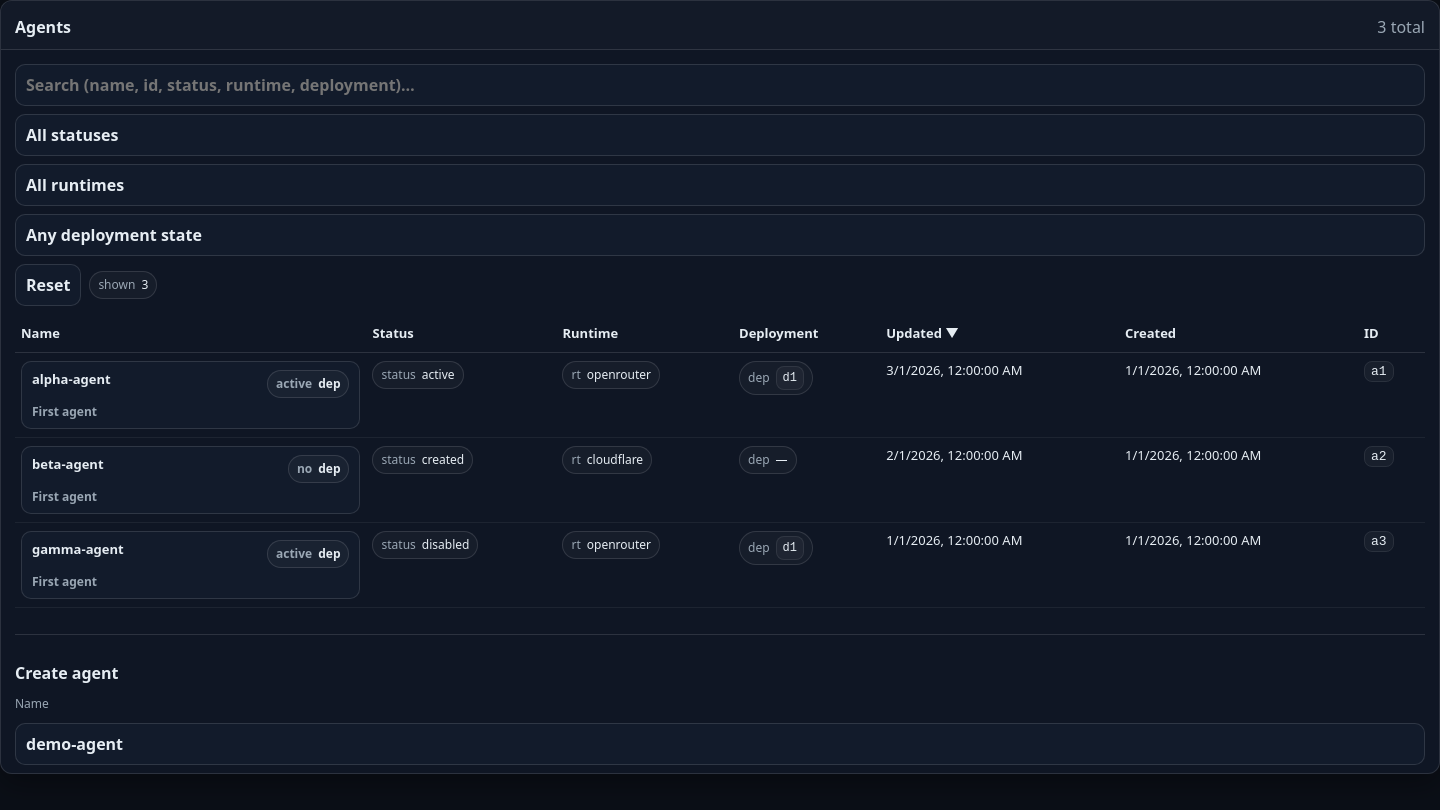
Test: AgentsListPanel › resets all filters when Reset clicked
Note: Apply a filter first
Select "disabled" in the dropdown named "Filter by status": (720, 135) [15,114,1425,156]
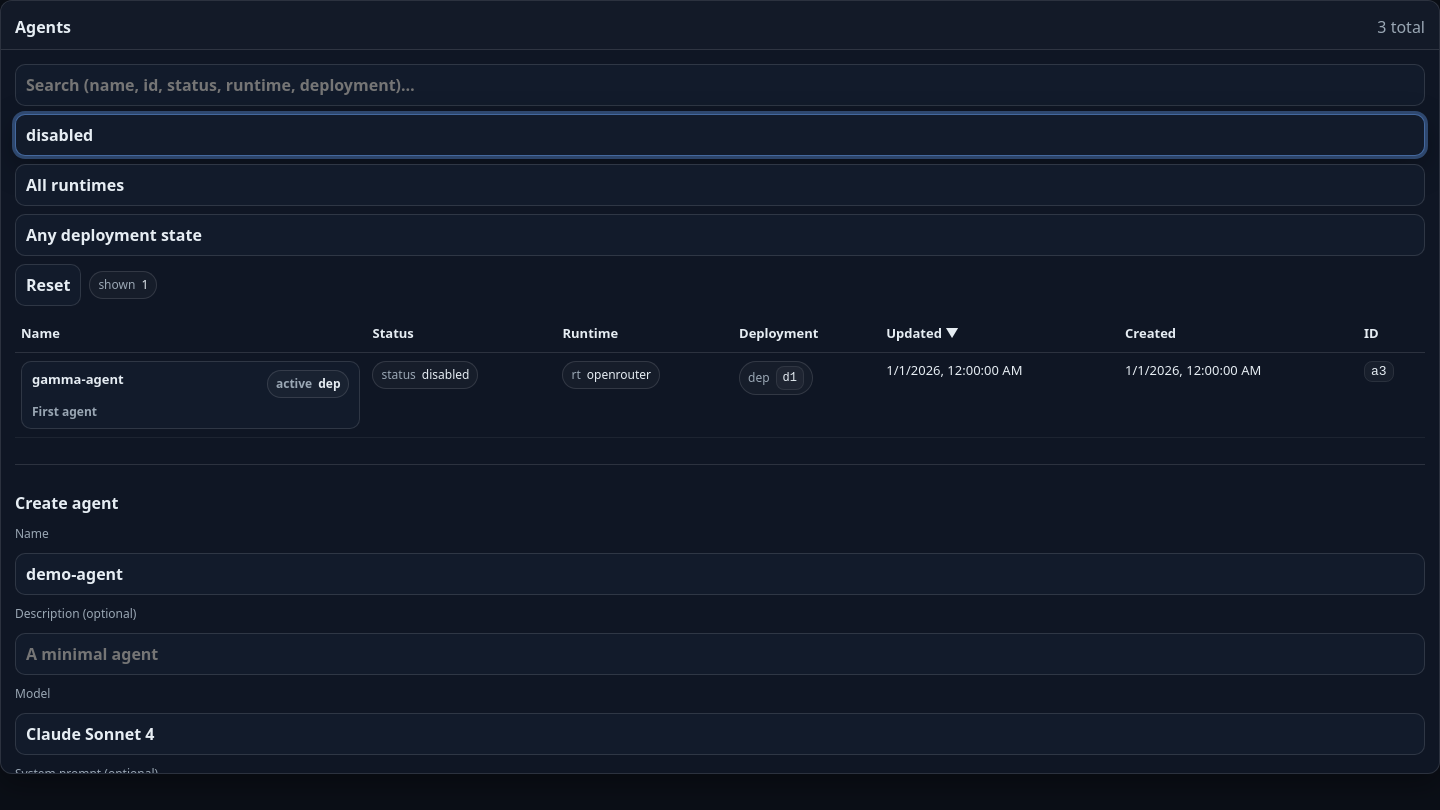
Now the button "alpha-agent" is gone
Click the button "Reset": (48, 285) [15,264,81,306]
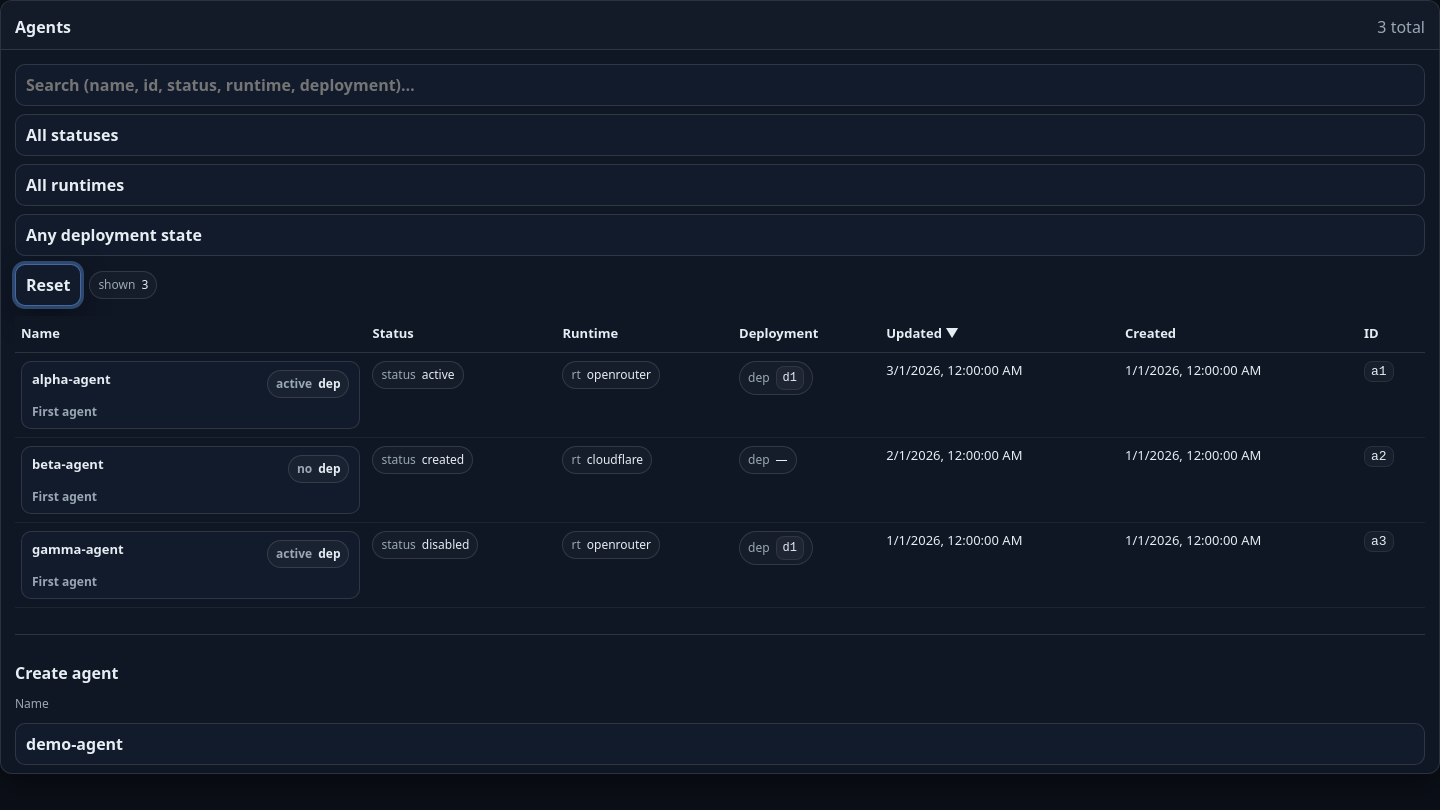
Expected: the text "gamma-agent" is shown, [32,540,124,568]
Now the text "alpha-agent" is shown, box [32,370,111,398]
Now the text "beta-agent" is shown, box [32,455,104,483]
